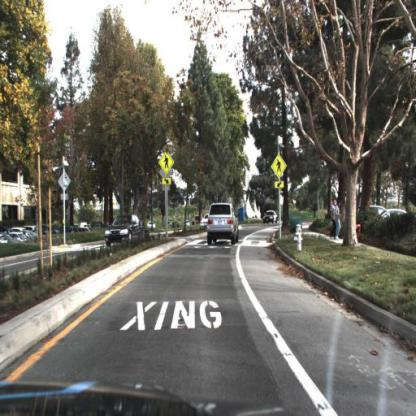car: (206, 202, 240, 249), (101, 212, 141, 249), (262, 208, 280, 226), (262, 210, 280, 224)
pedestrian: (334, 194, 343, 249), (329, 196, 338, 241), (329, 201, 338, 242), (335, 201, 341, 241)
